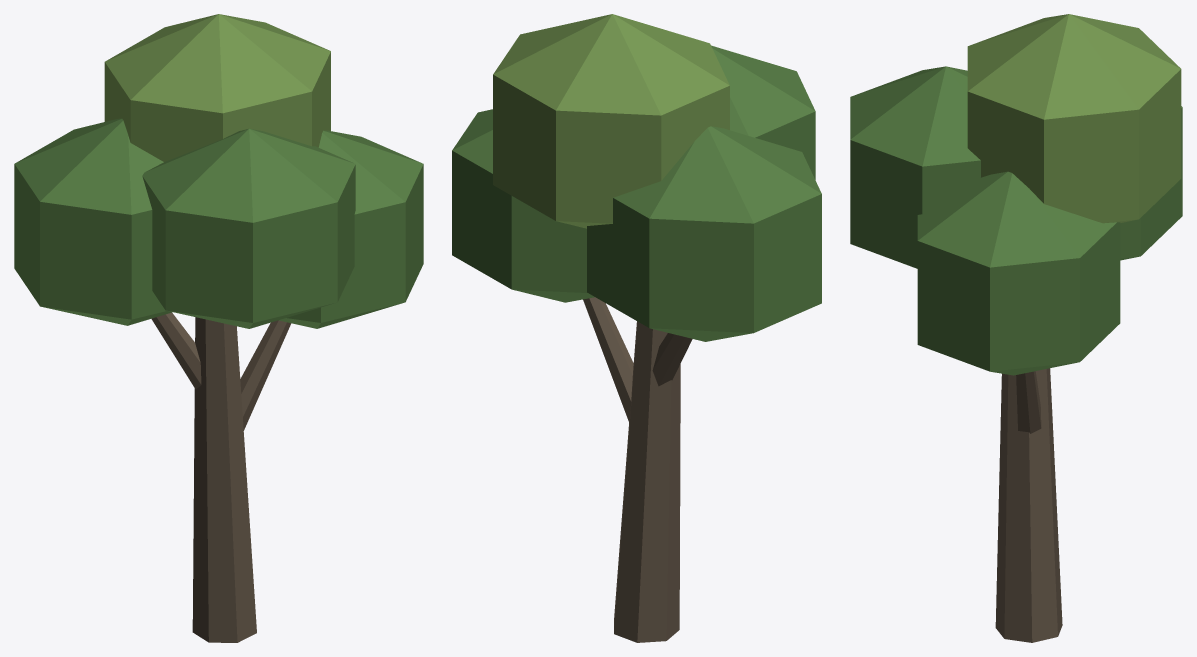
File: ForestOak.fbx
The picture shows the model from 3 angles, left to right: view 1: azimuth 30°, elevation 25°; view 2: azimuth 150°, elevation 25°; view 3: azimuth 270°, elevation 25°; orthographic projection. The views are drawn at different scales.
Parts seen in each view (by area): view 1: FA_ForestOak; view 2: FA_ForestOak; view 3: FA_ForestOak.
Boxes of the visible parts, x1,y1,x2,y2 form: FA_ForestOak: (14,14,423,642); FA_ForestOak: (452,14,821,642); FA_ForestOak: (850,14,1182,642).
Bounding box in the file's own units: 3.48 × 5.6 × 2.71.
